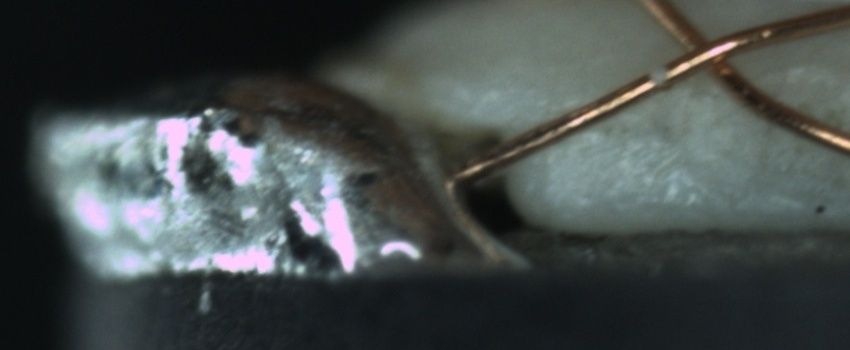CL: (659, 18, 758, 91)
